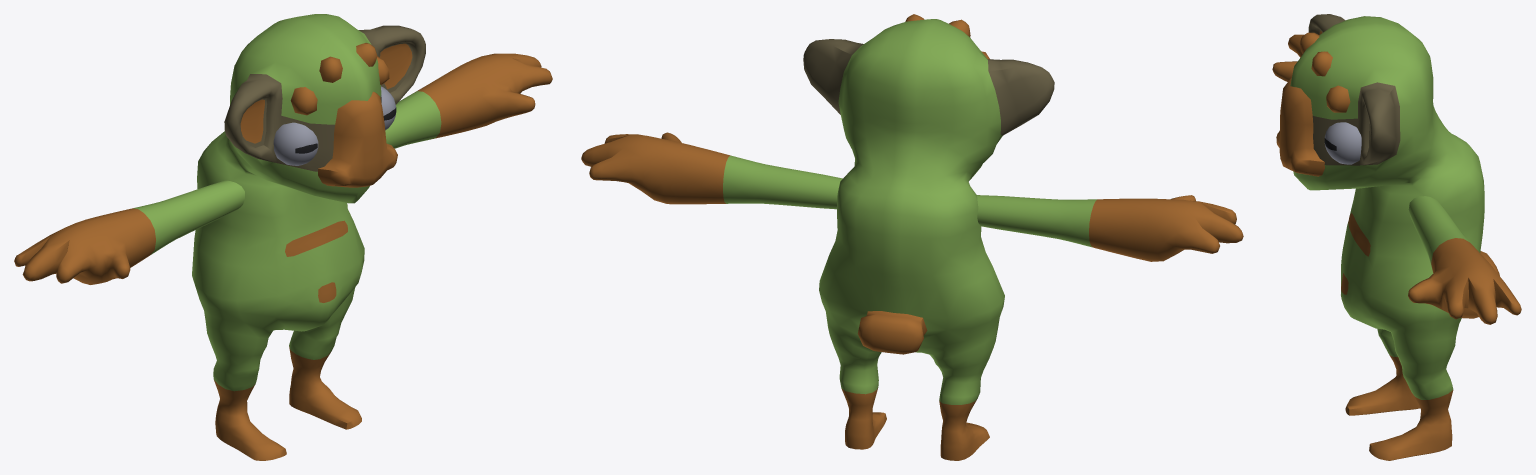
Rendered from Monkroose.fbx.
The picture shows the model from 3 angles, left to right: view 1: azimuth 30°, elevation 25°; view 2: azimuth 150°, elevation 25°; view 3: azimuth 270°, elevation 25°; orthographic projection. The views are drawn at different scales.
Visible parts, largest first — view 1: Monkroose; view 2: Monkroose; view 3: Monkroose.
Part boxes in pixels (bbox=[...]): Monkroose: bbox=[14, 14, 552, 460]; Monkroose: bbox=[581, 14, 1243, 460]; Monkroose: bbox=[1272, 14, 1521, 460].
Bounding box in the file's own units: 413 × 274 × 152.
